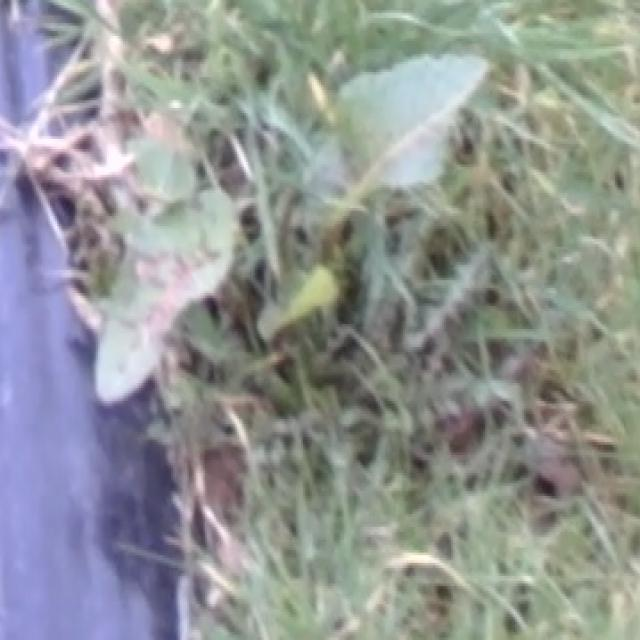organic waste: (16, 0, 483, 425)
